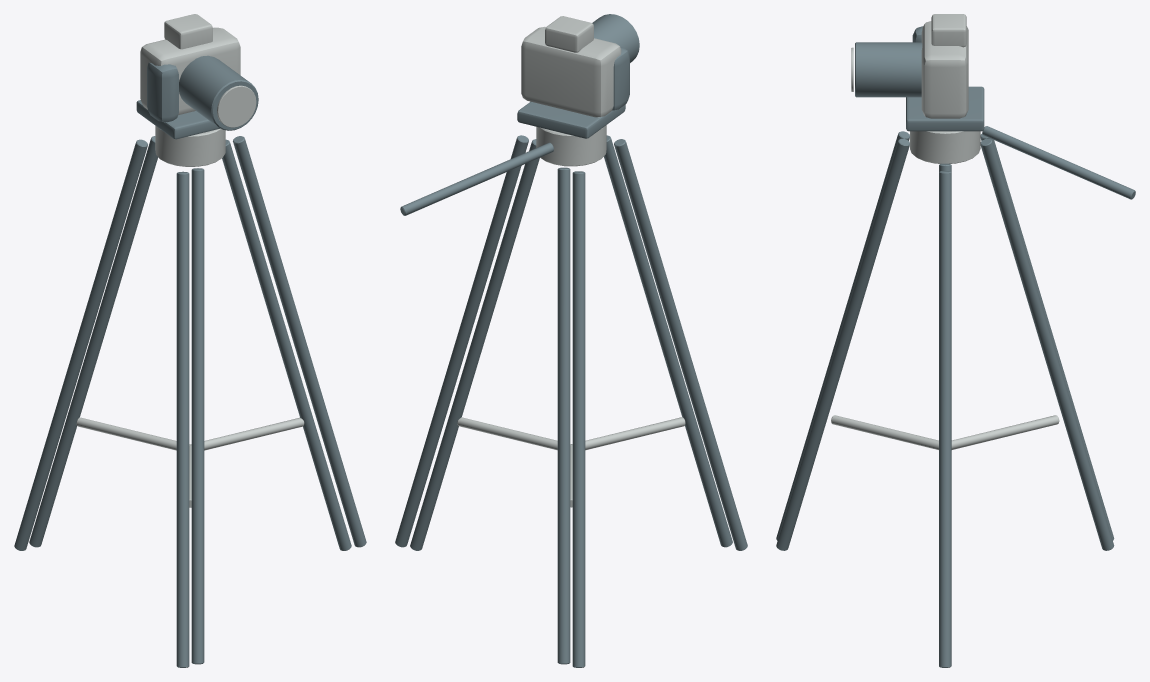
The model's file is tripod-camera.glb.
The picture shows the model from 3 angles, left to right: view 1: azimuth 30°, elevation 25°; view 2: azimuth 150°, elevation 25°; view 3: azimuth 270°, elevation 25°; orthographic projection.
Parts seen in each view (by area): view 1: tripod_twin_leg.003, tripod_twin_leg.002, tripod_twin_leg.001, tripod_twin_leg.004, tripod_twin_leg, tripod_twin_leg.005, lens_barrel, camera_body, fluid_head, camera_grip, viewfinder, lens_glass (+3 smaller); view 2: tripod_twin_leg.005, tripod_twin_leg.004, camera_body, tripod_twin_leg.002, tripod_twin_leg.003, tripod_twin_leg.001, tripod_twin_leg, quick_release, fluid_head, pan_handle, viewfinder, lens_barrel (+3 smaller); view 3: tripod_twin_leg.001, tripod_twin_leg.003, tripod_twin_leg.005, lens_barrel, camera_body, fluid_head, quick_release, pan_handle, tripod_twin_leg.002, tripod_twin_leg.004, viewfinder, spreader.002 (+1 smaller).
Boxes of the visible parts, x1,y1,x2,y2 form: tripod_twin_leg.003: (191, 168, 204, 664); tripod_twin_leg.002: (176, 171, 189, 667); tripod_twin_leg.001: (233, 136, 366, 547); tripod_twin_leg.004: (14, 139, 147, 550); tripod_twin_leg: (222, 139, 351, 550); tripod_twin_leg.005: (29, 136, 158, 547); lens_barrel: (179, 55, 258, 130); camera_body: (140, 27, 240, 114); fluid_head: (155, 126, 225, 166); camera_grip: (147, 62, 178, 122); viewfinder: (164, 14, 212, 49); lens_glass: (217, 85, 256, 127); tripod_twin_leg.005: (557, 167, 570, 664); tripod_twin_leg.004: (572, 171, 585, 667); camera_body: (521, 26, 621, 117); tripod_twin_leg.002: (614, 139, 747, 550); tripod_twin_leg.003: (604, 135, 732, 547); tripod_twin_leg.001: (395, 135, 528, 547); tripod_twin_leg: (410, 139, 539, 550); quick_release: (517, 101, 625, 138); fluid_head: (536, 125, 606, 166); pan_handle: (400, 142, 553, 215); viewfinder: (545, 16, 593, 52); lens_barrel: (592, 14, 639, 62); tripod_twin_leg.001: (939, 171, 951, 667); tripod_twin_leg.003: (776, 138, 909, 550); tripod_twin_leg.005: (980, 138, 1114, 550); lens_barrel: (855, 42, 922, 97); camera_body: (921, 21, 968, 118); fluid_head: (910, 131, 980, 163); quick_release: (906, 86, 984, 131); pan_handle: (982, 126, 1135, 199); tripod_twin_leg.002: (776, 131, 909, 540); tripod_twin_leg.004: (980, 133, 1114, 540); viewfinder: (931, 14, 966, 47); spreader.002: (951, 415, 1059, 449).
Bounding box in the file's own units: 0.7943 × 1.59 × 0.9163.
